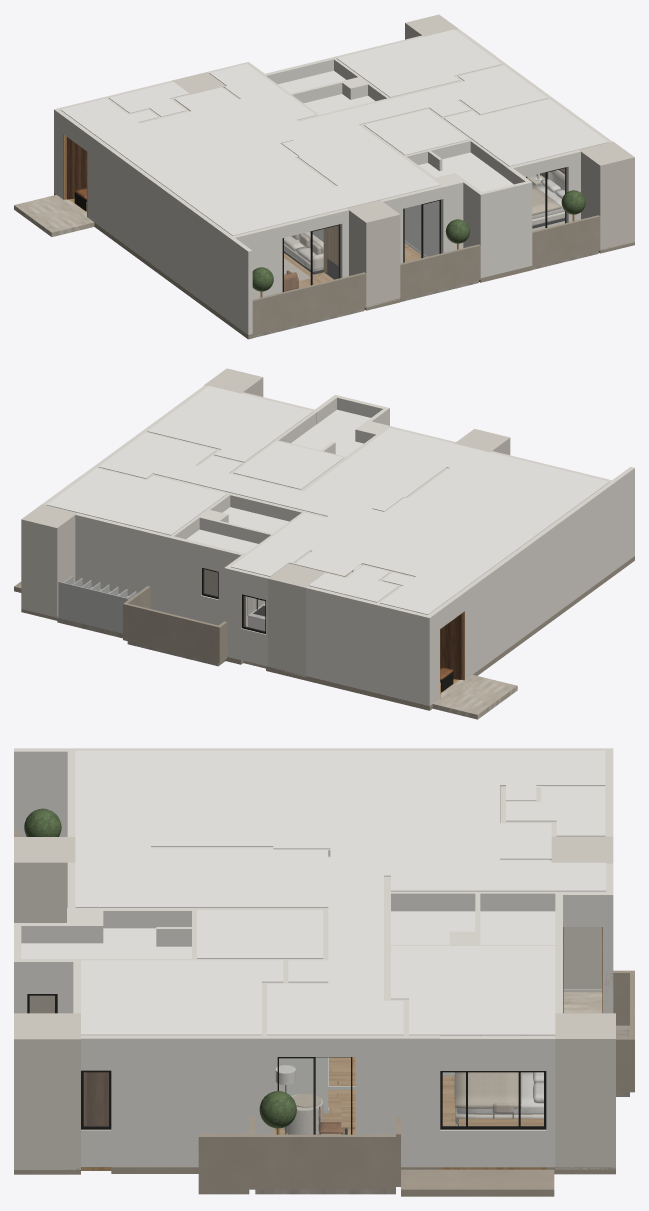
The picture shows the model from 3 angles, top to bottom: view 1: azimuth 30°, elevation 25°; view 2: azimuth 150°, elevation 25°; view 3: azimuth 270°, elevation 25°; orthographic projection. The views are drawn at different scales.
Visible parts, largest first — view 1: W_EXT_W02, CEIL_R05_LIVING, CEIL_R03_DINING, CEIL_R07_PLAY, CEIL_R10_KIDS, CEIL_R14_MASTER, COL_04, COL_03, W_EXT_S06, W_PAR_SW, CEIL_R11_STUDY, SD05_LIVING_S (+39 smaller); view 2: W_EXT_W02, CEIL_R05_LIVING, W_EXT_N01, CEIL_R03_DINING, W_EXT_N04, CEIL_R07_PLAY, CEIL_R10_KIDS, CEIL_R14_MASTER, COL_02, CEIL_R11_STUDY, COL_01, W_PAR_N01 (+26 smaller); view 3: CEIL_R05_LIVING, CEIL_R03_DINING, W_EXT_E03, CEIL_R07_PLAY, CEIL_R14_MASTER, CEIL_R10_KIDS, COL_04, W_EXT_E02, COL_02, CEIL_R11_STUDY, WN03_KIDS_HDR, W_PAR_E2 (+47 smaller).
Part boxes in pixels (x1,y1,x2,y2): W_EXT_W02: (87,133,234,321); CEIL_R05_LIVING: (150,143,372,235); CEIL_R03_DINING: (95,87,292,175); CEIL_R07_PLAY: (281,124,440,201); CEIL_R10_KIDS: (336,29,501,97); CEIL_R14_MASTER: (443,99,608,166); COL_04: (579,141,634,250); COL_03: (347,200,400,307); W_EXT_S06: (482,180,532,277); W_PAR_SW: (252,272,366,335); CEIL_R11_STUDY: (411,65,547,117); SD05_LIVING_S: (282,224,340,291); W_EXT_W02: (461,480,616,679); CEIL_R05_LIVING: (385,445,609,545); W_EXT_N01: (306,586,427,704); CEIL_R03_DINING: (294,509,521,588); W_EXT_N04: (75,513,203,621); CEIL_R07_PLAY: (303,428,461,511); CEIL_R10_KIDS: (47,468,226,535); CEIL_R14_MASTER: (147,386,313,462); COL_02: (21,504,77,617); CEIL_R11_STUDY: (99,432,242,487); COL_01: (268,563,326,677); W_PAR_N01: (123,603,221,663); CEIL_R05_LIVING: (75,750,330,855); CEIL_R03_DINING: (330,750,551,859); W_EXT_E03: (111,1035,274,1166); CEIL_R07_PLAY: (75,848,328,907); CEIL_R14_MASTER: (81,960,283,1035); CEIL_R10_KIDS: (391,946,555,1035); COL_04: (14,1013,80,1169); W_EXT_E02: (355,1035,440,1166); COL_02: (555,1013,615,1169); CEIL_R11_STUDY: (267,960,403,1035); WN03_KIDS_HDR: (440,1035,546,1167); W_PAR_E2: (255,1134,395,1189).
Bounding box in the file's own units: 16.02 × 3.02 × 12.27.
Materials: 40 (21 with a texture image).
